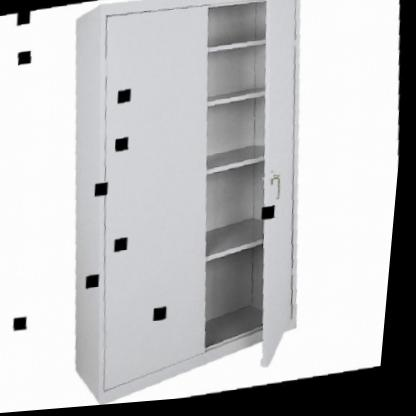Cabinet: (44, 0, 334, 406)
